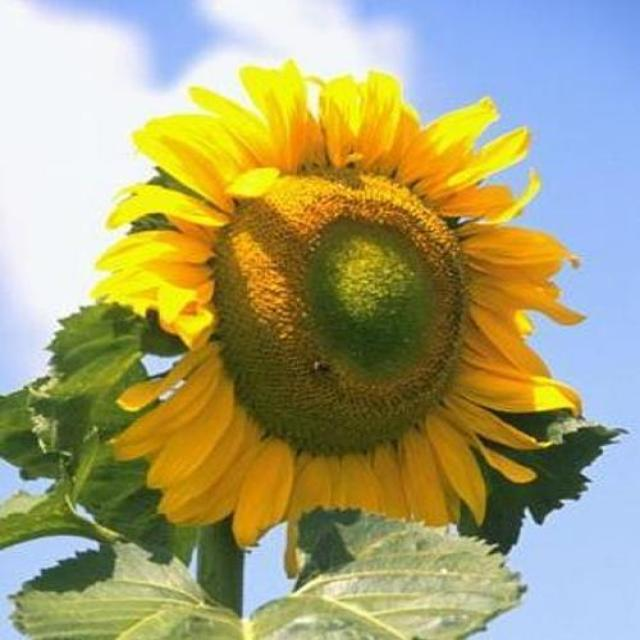sunflower: (80, 54, 592, 553)
